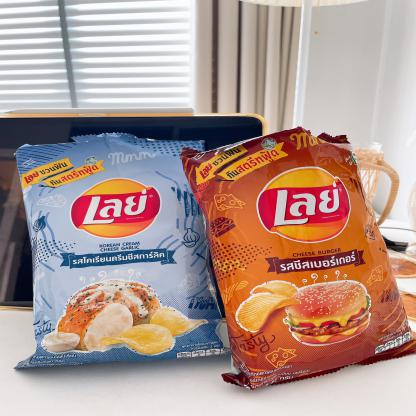potatochip: (168, 122, 416, 396), (10, 132, 239, 374)
